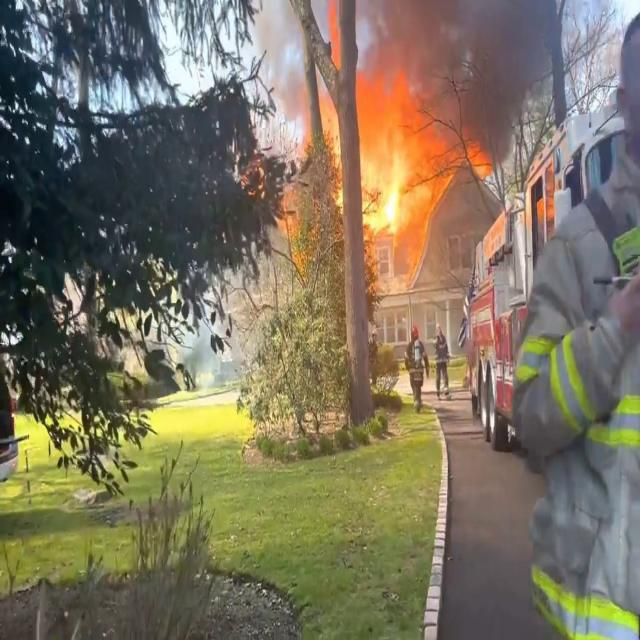Fire: (358, 65, 443, 241)
Smoke: (358, 0, 564, 139)
